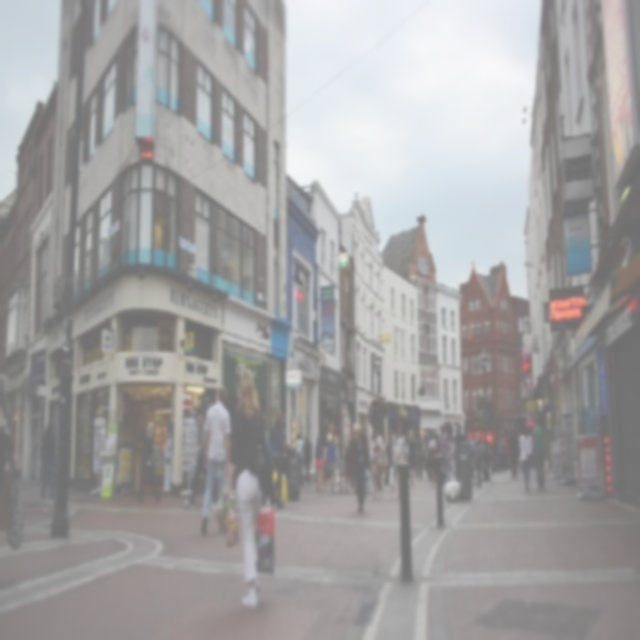pessoa: (218, 362, 274, 612), (200, 383, 233, 536), (0, 370, 24, 554), (346, 421, 374, 515), (183, 408, 208, 512), (267, 443, 303, 501), (268, 408, 286, 511), (138, 420, 160, 504), (390, 418, 410, 498), (38, 416, 57, 498), (468, 430, 503, 470), (530, 416, 548, 492), (516, 425, 532, 492), (370, 426, 385, 494), (452, 422, 466, 482), (326, 432, 338, 495), (344, 431, 356, 494), (404, 426, 416, 488), (301, 433, 314, 488), (508, 422, 520, 480), (384, 431, 396, 486), (358, 424, 371, 474), (437, 426, 448, 482), (426, 431, 438, 482), (314, 434, 324, 490), (422, 426, 430, 478), (414, 430, 422, 480), (444, 433, 452, 483), (336, 438, 346, 462), (295, 432, 304, 452)
